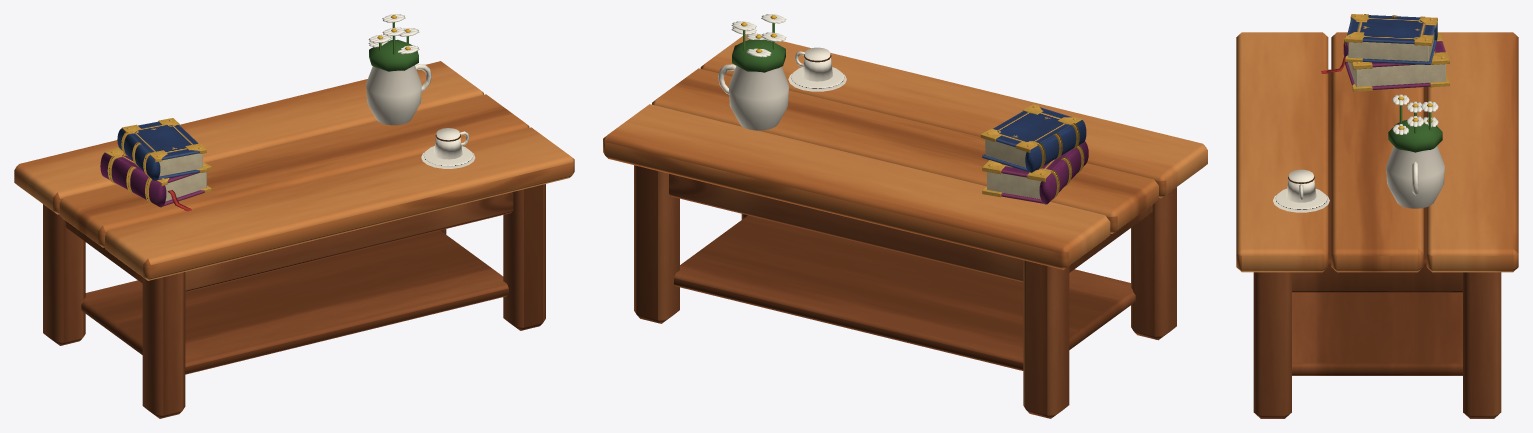
File: cafe_coffee_table.glb
3 renders of one model, left to right at view 1: azimuth 30°, elevation 25°; view 2: azimuth 150°, elevation 25°; view 3: azimuth 270°, elevation 25°, orthographic. The views are drawn at different scales.
Parts seen in each view (by area): view 1: model; view 2: model; view 3: model.
Boxes of the visible parts, bbox=[...] form: model: bbox=[14, 14, 574, 418]; model: bbox=[603, 14, 1207, 418]; model: bbox=[1236, 14, 1518, 418].
Size of the model in its own units: 1.1 by 0.6531 by 0.594.
15 materials, 9 textured.
